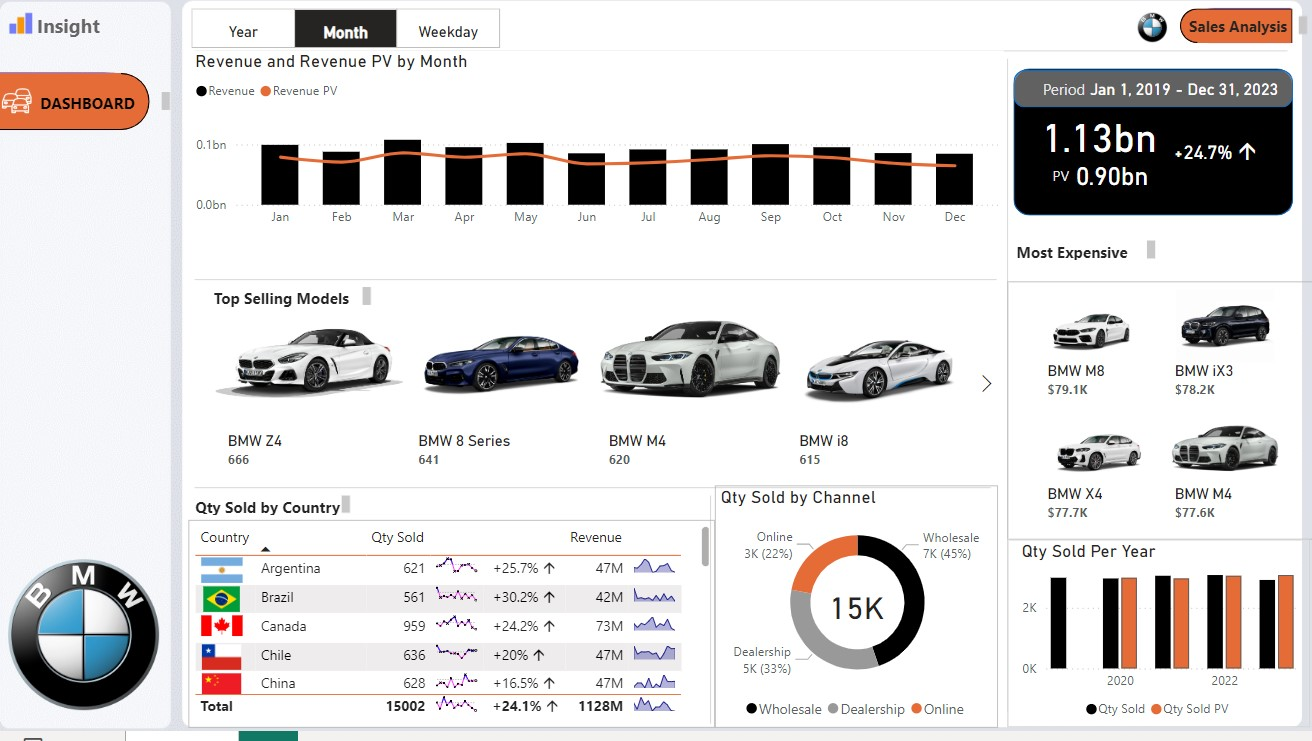

The dashboard page shown, as its layout file describes it:
{"tool":"powerbi","page":{"name":"Page 1","canvas":[1280,720],"ordinal":0},"visuals":[{"type":"shape","box":[990,71.1,270,142.1],"z":0},{"type":"shape","box":[990,72.6,270,36.3],"z":1000},{"type":"lineClusteredColumnComboChart","fields":{"Category":["Calender.Month"],"Y":["All Measures (2).Revenue"],"Y2":["All Measures (2).Revenue PV"]},"box":[193.8,53,785.9,178.7],"z":2000},{"type":"advancedSlicerVisual","fields":{"Values":["PeriodSlicer.PeriodSlicer"]},"box":[195.6,12.9,300.6,38.8],"z":3000},{"type":"card","fields":{"Values":["All Measures (2).Revenue"]},"box":[1010,101.5,124.2,65.1],"z":4000},{"type":"card","fields":{"Values":["All Measures (2).Revenue PV"]},"box":[1023.6,156,122.7,34.8],"z":5000},{"type":"textbox","box":[1013,159,45.4,34.8],"z":6000},{"type":"card","fields":{"Values":["All Measures (2).Revenue Growth Arrow"]},"box":[1116,134.8,131.7,34.8],"z":7000},{"type":"card","fields":{"Values":["All Measures (2).Selected Period"]},"box":[1049.3,74.2,210.5,34.8],"z":8000},{"type":"textbox","box":[1005.2,74.8,66.2,34.5],"z":9000},{"type":"advancedSlicerVisual","fields":{"Values":["DimModel.Model"]},"box":[983.7,276.3,296.8,249.5],"z":10000},{"type":"advancedSlicerVisual","fields":{"Values":["DimModel.Model"]},"box":[192.6,276.3,786.3,197.4],"z":11000},{"type":"textbox","box":[212,277.1,162,28.8],"z":12000},{"type":"textbox","box":[968.1,231.9,163.8,29],"z":13000},{"type":"clusteredColumnChart","title":"Qty Sold Per Year","fields":{"Y":["All Measures (2).Qty Sold","All Measures (2).Qty Sold PV"],"Category":["Calender.Year"]},"box":[983.7,525.8,292.1,181.6],"z":14000},{"type":"donutChart","fields":{"Y":["All Measures (2).Qty Sold"],"Category":["DimChannel.Channel"]},"box":[701.4,476.8,272.5,233.3],"z":15000},{"type":"card","fields":{"Values":["All Measures (2).Qty Sold"]},"box":[791.1,571.6,93.2,37.9],"z":16000},{"type":"tableEx","fields":{"Values":["DimCountry.Flag","DimCountry.Country","All Measures (2).Qty Sold","All Measures (2).Qty SOld Sparkline","All Measures (2).Qty Sold Growth Arrow","All Measures (2).Revenue","All Measures (2).Revenue Sparkline"]},"box":[192.6,506.8,508.4,200.5],"z":17000},{"type":"textbox","box":[192.6,478.4,161.1,28.4],"z":18000},{"type":"image","box":[13,529,156.5,178.3],"z":19000},{"type":"image","box":[13,0,34.8,52.2],"z":20000},{"type":"shape","box":[8.7,75.4,146.4,55.1],"z":21000},{"type":"image","box":[5.8,82.6,42,39.1],"z":22000},{"type":"textbox","box":[18.8,88.4,160.9,29],"z":23000},{"type":"textbox","box":[11.6,11.6,130.4,40.6],"z":24000},{"type":"shape","box":[1150.7,13,108.7,33.3],"z":25000},{"type":"image","box":[1102.9,11.6,42,39.1],"z":26000},{"type":"textbox","box":[1143.5,14.5,134.8,29],"z":27000}]}

Visuals, with their boxes in screenshot pixels (x1, y1, x2, y2), scaled from the page's 1280x720 canvas onto the 1312x741 screenshot:
shape: <bbox>1015, 73, 1292, 219</bbox>
shape: <bbox>1015, 75, 1292, 112</bbox>
lineClusteredColumnComboChart - Calender.Month x All Measures (2).Revenue: <bbox>199, 55, 1004, 238</bbox>
advancedSlicerVisual - PeriodSlicer.PeriodSlicer: <bbox>200, 13, 509, 53</bbox>
card - All Measures (2).Revenue: <bbox>1035, 104, 1163, 171</bbox>
card - All Measures (2).Revenue PV: <bbox>1049, 161, 1175, 196</bbox>
textbox: <bbox>1038, 164, 1085, 199</bbox>
card - All Measures (2).Revenue Growth Arrow: <bbox>1144, 139, 1279, 175</bbox>
card - All Measures (2).Selected Period: <bbox>1076, 76, 1291, 112</bbox>
textbox: <bbox>1030, 77, 1098, 112</bbox>
advancedSlicerVisual - DimModel.Model: <bbox>1008, 284, 1311, 541</bbox>
advancedSlicerVisual - DimModel.Model: <bbox>197, 284, 1003, 488</bbox>
textbox: <bbox>217, 285, 383, 315</bbox>
textbox: <bbox>992, 239, 1160, 269</bbox>
"Qty Sold Per Year" clusteredColumnChart: <bbox>1008, 541, 1308, 728</bbox>
donutChart - All Measures (2).Qty Sold x DimChannel.Channel: <bbox>719, 491, 998, 731</bbox>
card - All Measures (2).Qty Sold: <bbox>811, 588, 906, 627</bbox>
tableEx - DimCountry.Flag x DimCountry.Country: <bbox>197, 522, 719, 728</bbox>
textbox: <bbox>197, 492, 363, 522</bbox>
image: <bbox>13, 544, 174, 728</bbox>
image: <bbox>13, 0, 49, 54</bbox>
shape: <bbox>9, 78, 159, 134</bbox>
image: <bbox>6, 85, 49, 125</bbox>
textbox: <bbox>19, 91, 184, 121</bbox>
textbox: <bbox>12, 12, 146, 54</bbox>
shape: <bbox>1179, 13, 1291, 48</bbox>
image: <bbox>1130, 12, 1174, 52</bbox>
textbox: <bbox>1172, 15, 1310, 45</bbox>
